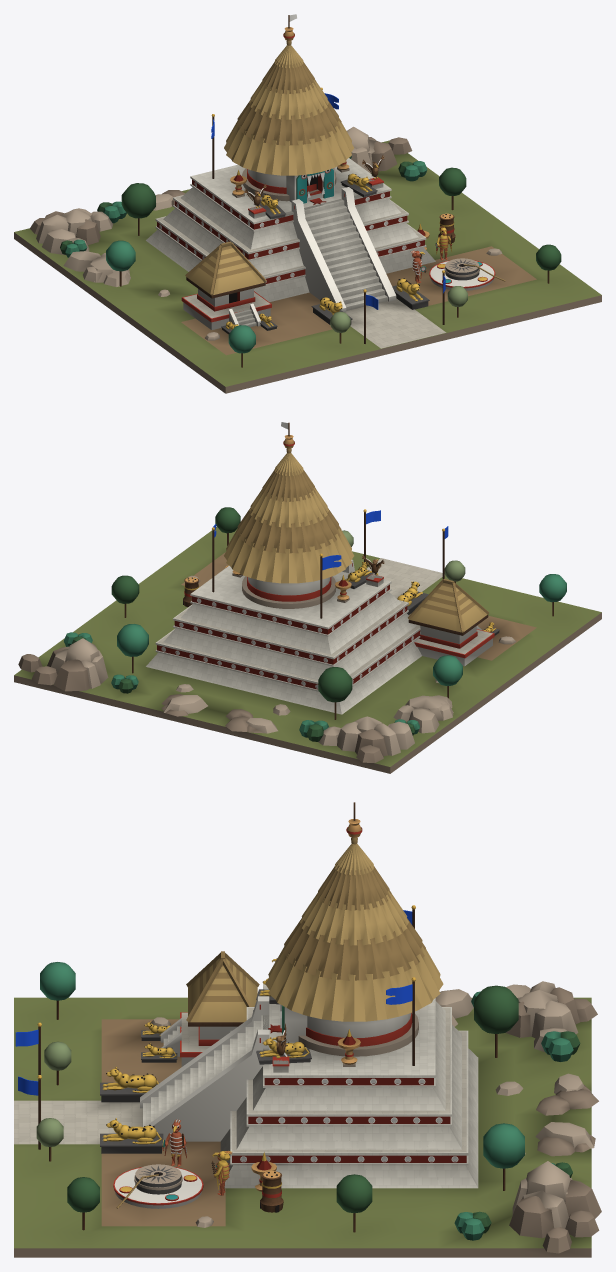
The model's file is lm_jaguartapinagi.glb.
3 views of the same model, one above another, from view 1: azimuth 30°, elevation 25°; view 2: azimuth 150°, elevation 25°; view 3: azimuth 270°, elevation 25° (orthographic). The views are drawn at different scales.
Parts seen in each view (by area): view 1: lm_jaguartapinagi; view 2: lm_jaguartapinagi; view 3: lm_jaguartapinagi.
Part boxes in pixels (x1,y1,x2,y2): lm_jaguartapinagi: (14, 14, 601, 393); lm_jaguartapinagi: (14, 422, 601, 773); lm_jaguartapinagi: (14, 802, 601, 1257).
Size of the model in its own units: 2.35 by 1.41 by 2.28.
Materials: 1 (1 with a texture image).
